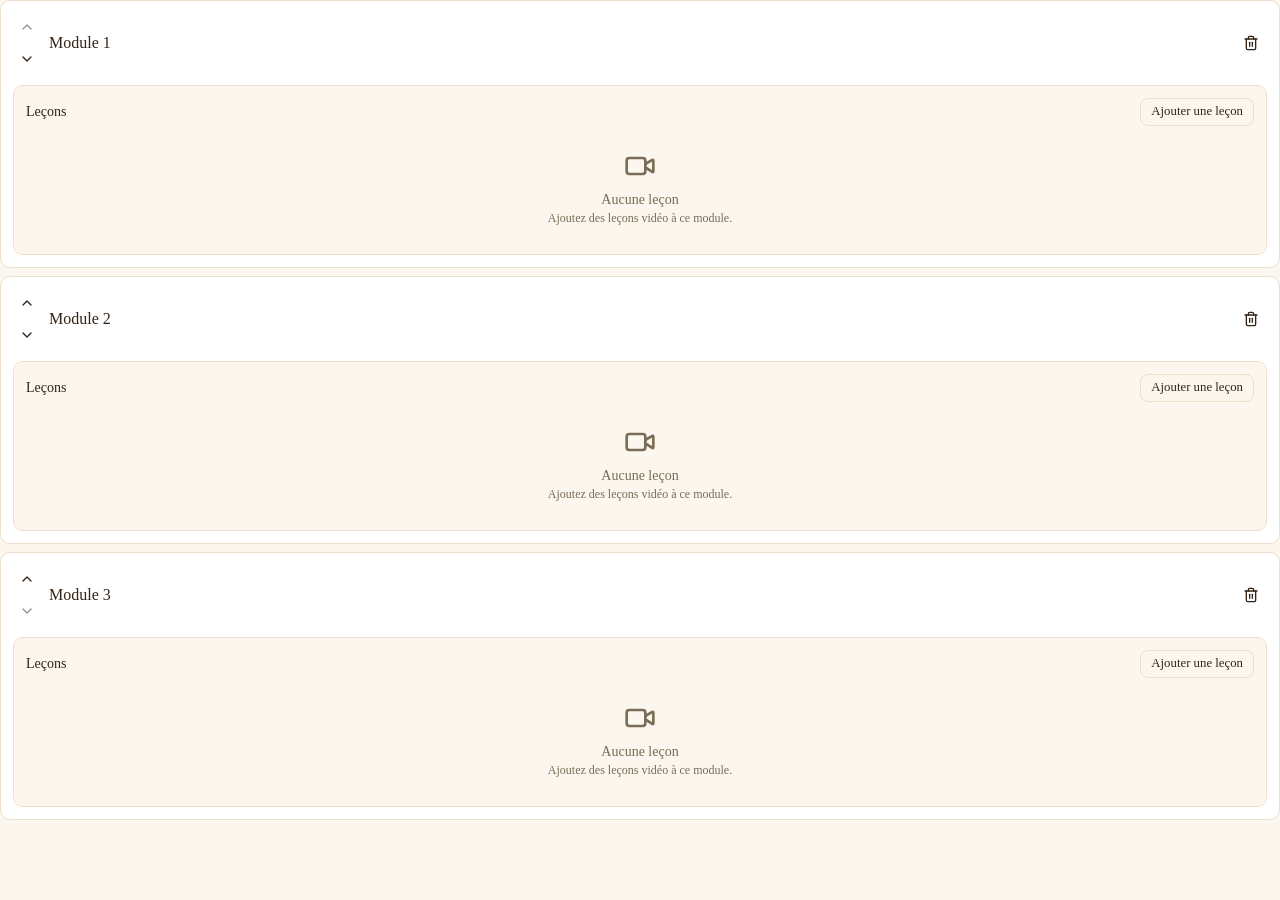
Test: Module UI Integration › ModuleList › should cancel edit on Escape key
Click the button "Module 1" at (80, 42), box 49,31 -> 1227,55
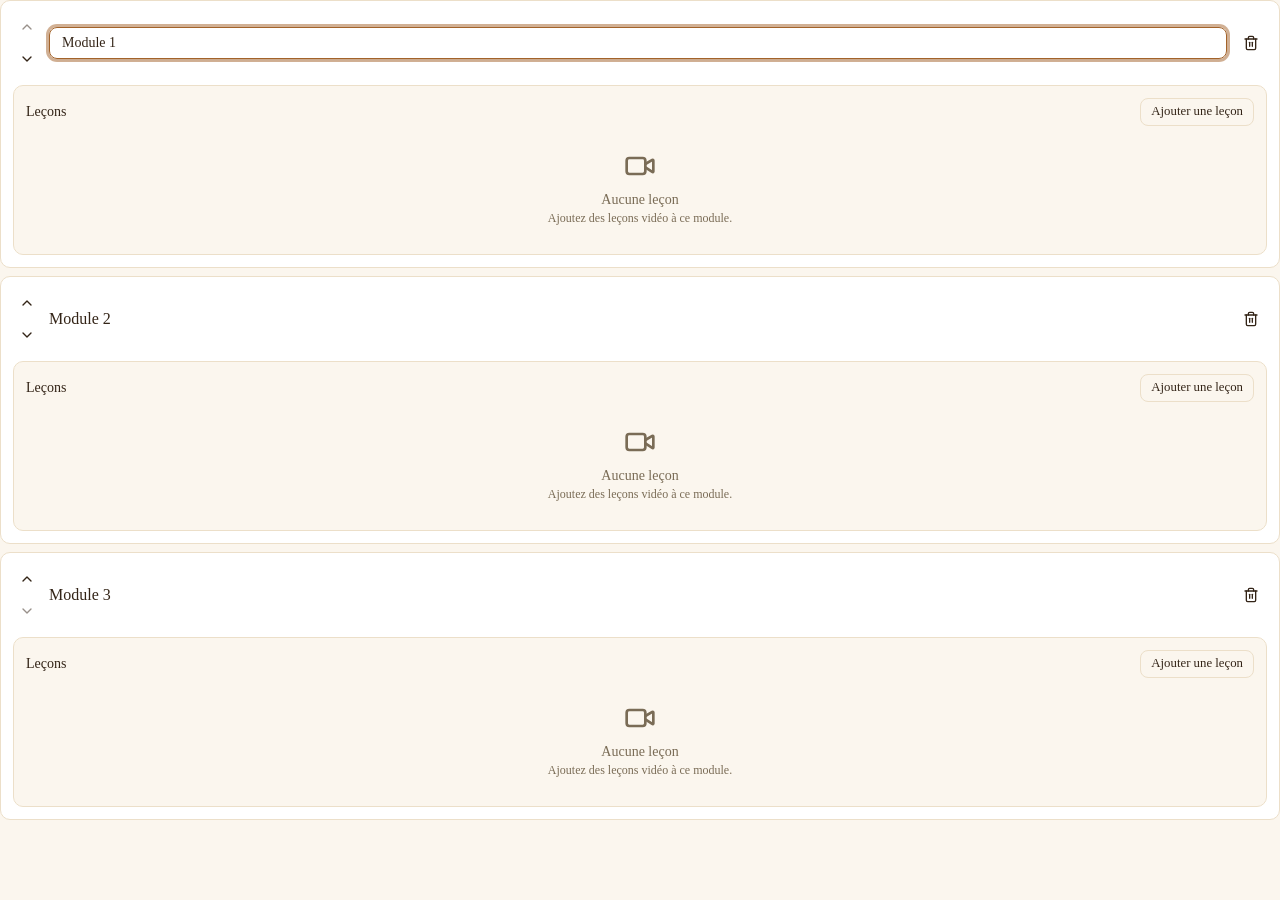
Replace the text in the field showing "Module 1" with "New Title" at (638, 43), box 49,27 -> 1227,59
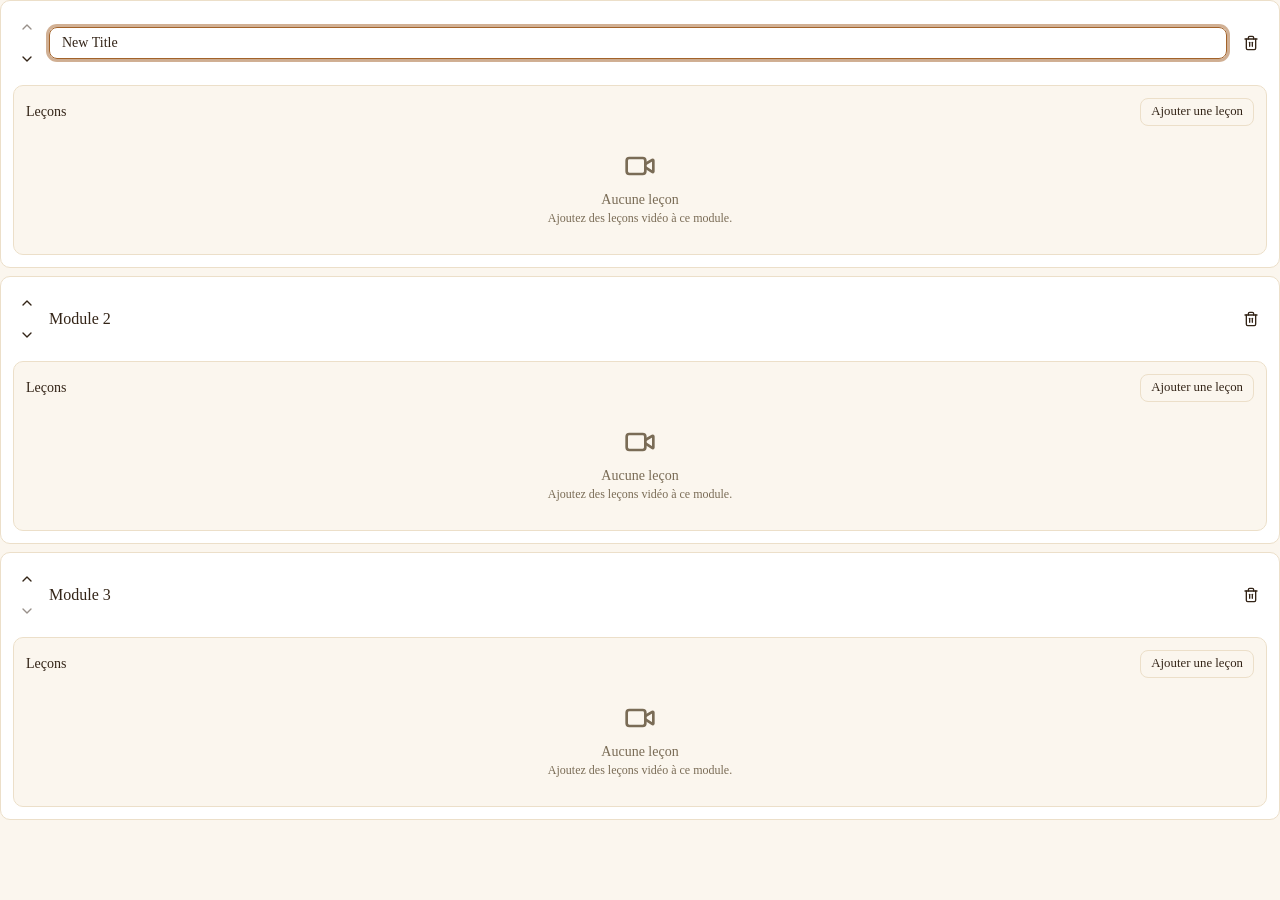
Press Escape in the field showing "Module 1", box 49,27 -> 1227,59
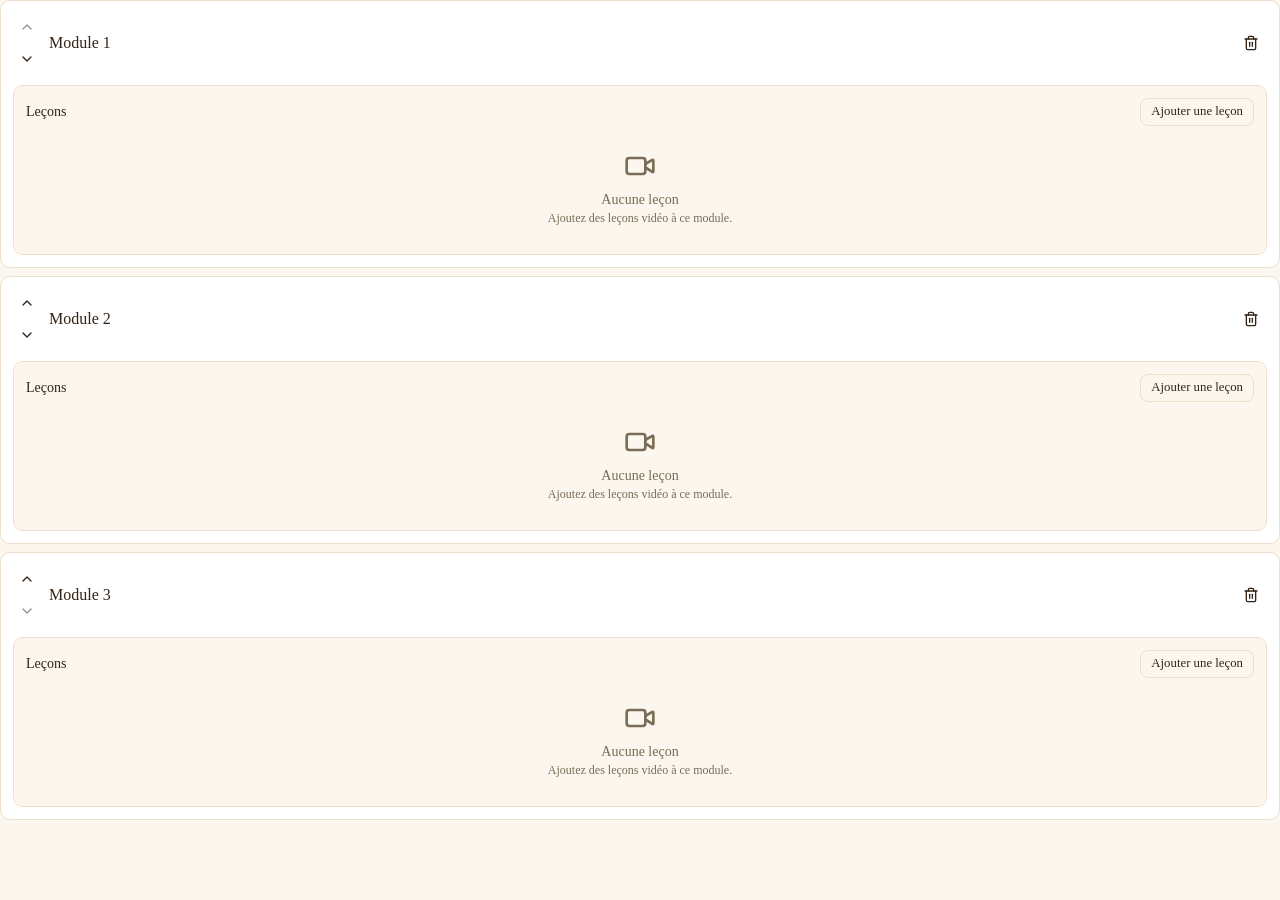
Result: the button "Module 1" is shown at 49,31 -> 1227,55
